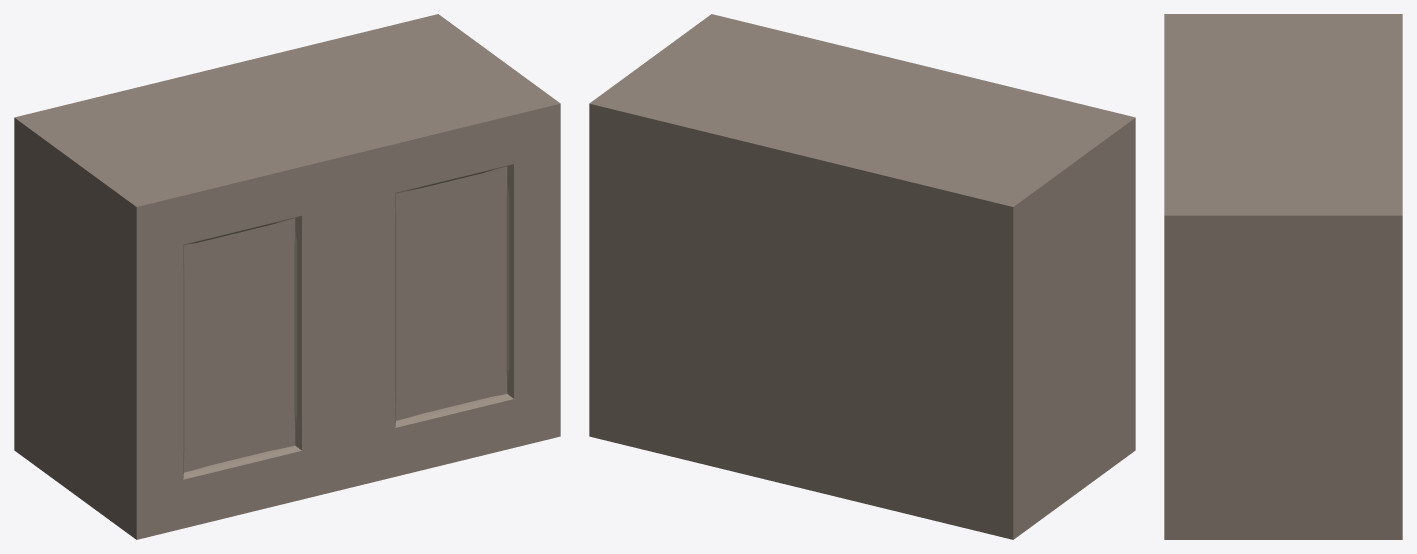
The model's file is Wall-Cabinet-18-High-12-Deep.std.glb.
3 renders of one model, left to right at view 1: azimuth 30°, elevation 25°; view 2: azimuth 150°, elevation 25°; view 3: azimuth 270°, elevation 25°, orthographic. The views are drawn at different scales.
Parts seen in each view (by area): view 1: Wall-Cabinet-18-High-12-Deep.std.001; view 2: Wall-Cabinet-18-High-12-Deep.std.001; view 3: Wall-Cabinet-18-High-12-Deep.std.001.
Part boxes in pixels (left/top/right/bottom): Wall-Cabinet-18-High-12-Deep.std.001: left=14, top=14, right=560, bottom=539; Wall-Cabinet-18-High-12-Deep.std.001: left=589, top=14, right=1135, bottom=539; Wall-Cabinet-18-High-12-Deep.std.001: left=1164, top=14, right=1402, bottom=539.
Bounding box in the file's own units: 0.6096 × 0.4572 × 0.3048.
